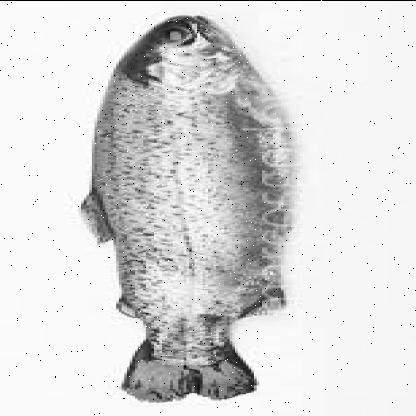fish: (76, 13, 290, 405)
